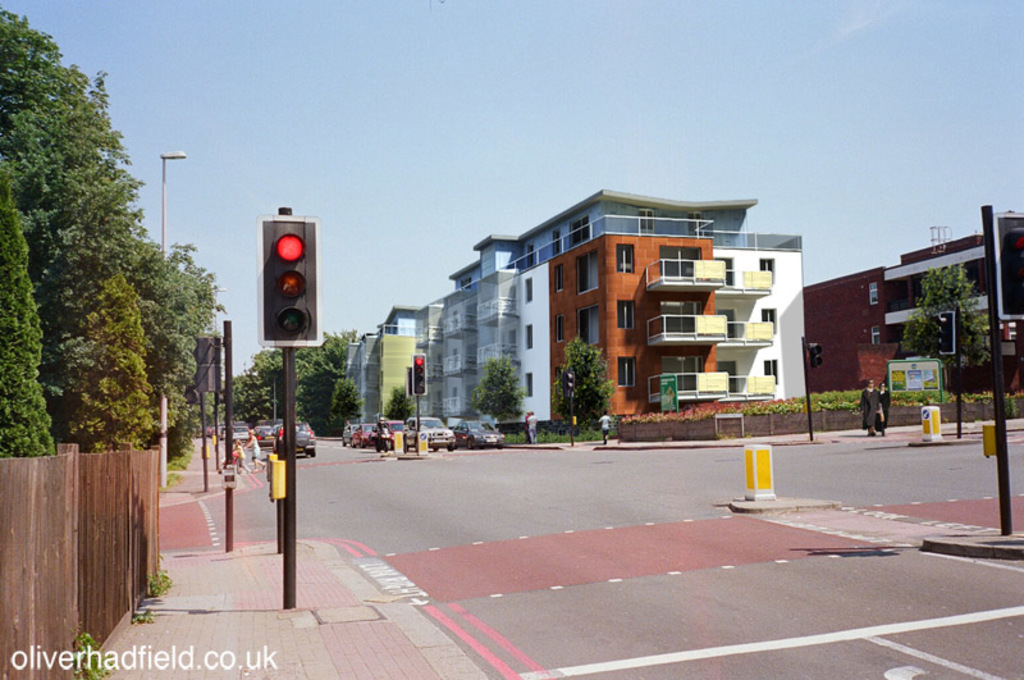red_light: (263, 222, 314, 340)
